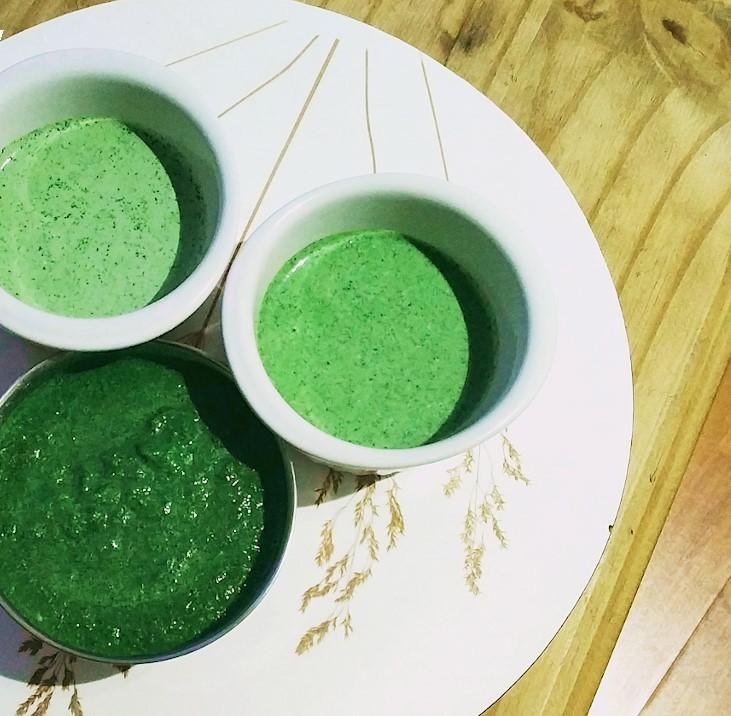GreenChutney: (0, 355, 277, 659), (259, 228, 496, 448), (0, 115, 204, 317)
